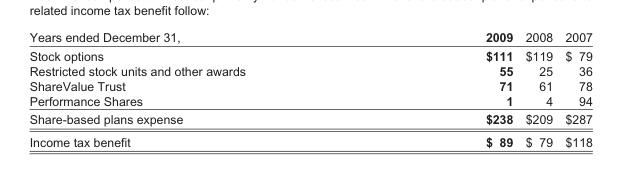table: (28, 29, 591, 148)
table column: (28, 29, 364, 148), (364, 29, 518, 148), (518, 29, 558, 148), (558, 29, 591, 148)
table column header: (28, 29, 591, 46)
table row: (28, 109, 591, 130), (28, 130, 591, 148), (28, 29, 591, 46), (28, 46, 591, 63), (28, 93, 591, 109), (28, 63, 591, 78), (28, 78, 591, 93)
